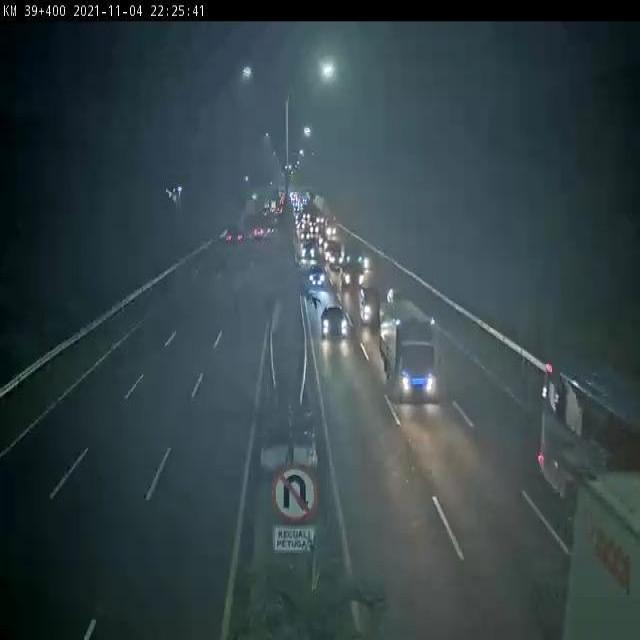bus-l-: (536, 347, 640, 516)
car: (355, 281, 386, 324), (319, 306, 350, 338), (339, 253, 367, 287), (308, 261, 329, 291)
truck-l-: (377, 298, 437, 406)
